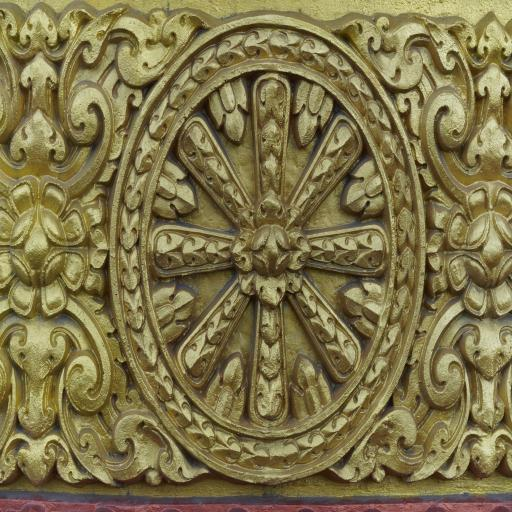hoa: (110, 16, 441, 474), (0, 175, 91, 324), (445, 178, 512, 324)
la: (110, 406, 186, 484), (358, 410, 436, 485), (361, 11, 438, 85), (114, 6, 194, 74), (0, 428, 82, 486), (2, 6, 88, 60), (6, 118, 70, 174), (455, 424, 512, 476), (13, 54, 63, 112), (465, 122, 512, 182), (463, 318, 512, 374), (465, 18, 512, 75), (471, 64, 512, 126), (13, 382, 62, 432), (468, 372, 512, 427)
